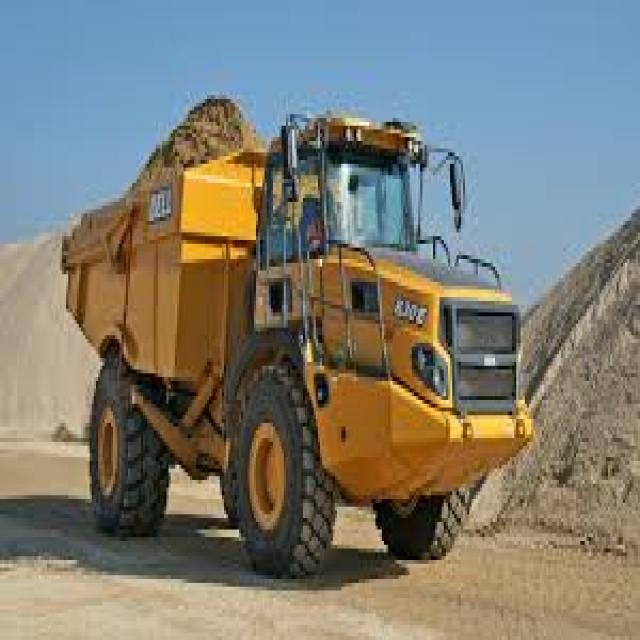dump_truck: (62, 57, 546, 591)
